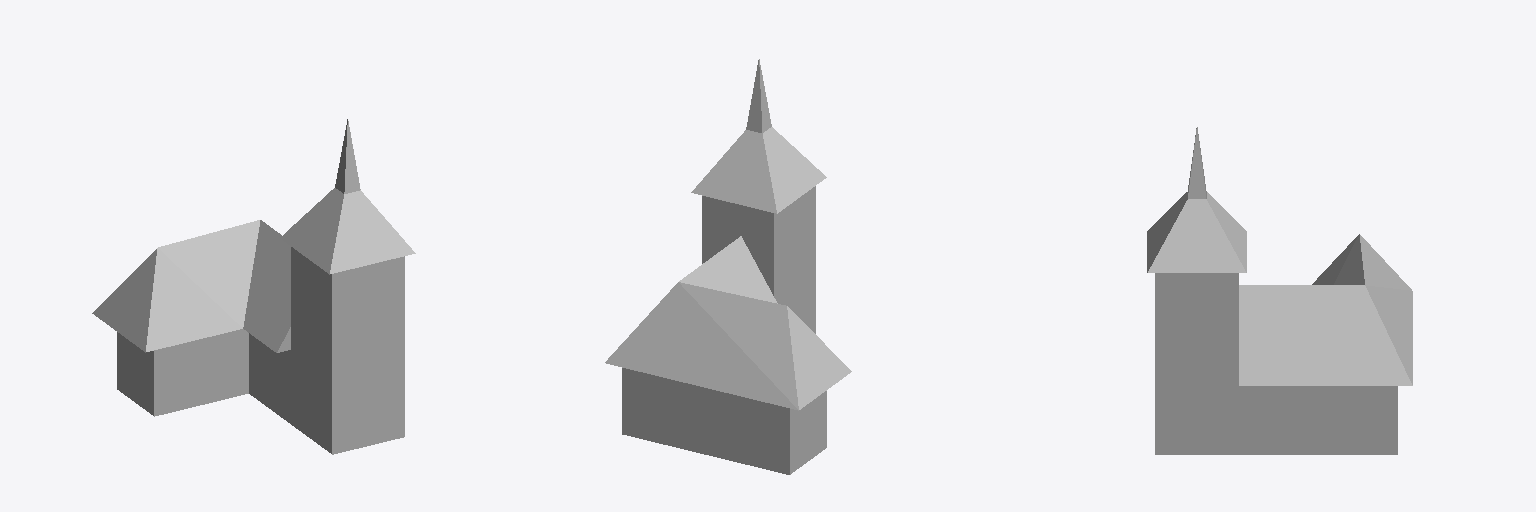
The model's file is house_14.obj.
3 renders of one model, left to right at view 1: azimuth 30°, elevation 25°; view 2: azimuth 150°, elevation 25°; view 3: azimuth 270°, elevation 25°, orthographic.
Parts seen in each view (by area): view 1: Cube.039; view 2: Cube.039; view 3: Cube.039.
Part boxes in pixels (x1,y1,x2,y2): Cube.039: (92,119,415,454); Cube.039: (605,59,851,474); Cube.039: (1147,127,1412,454).
Bounding box in the file's own units: 8.05 × 12.36 × 9.5.